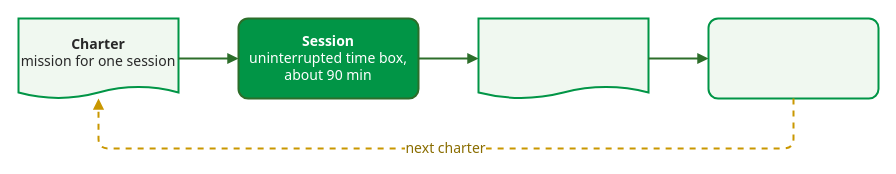
Some shapes in this 896 by 174 pixel diagram are drawn without their labels. The centre of each missing label's shape, as x and y in pixels:
Debriefing tester + test lead review the report: (793,58)
Session report bugs · issues · areas time split: (563,58)
